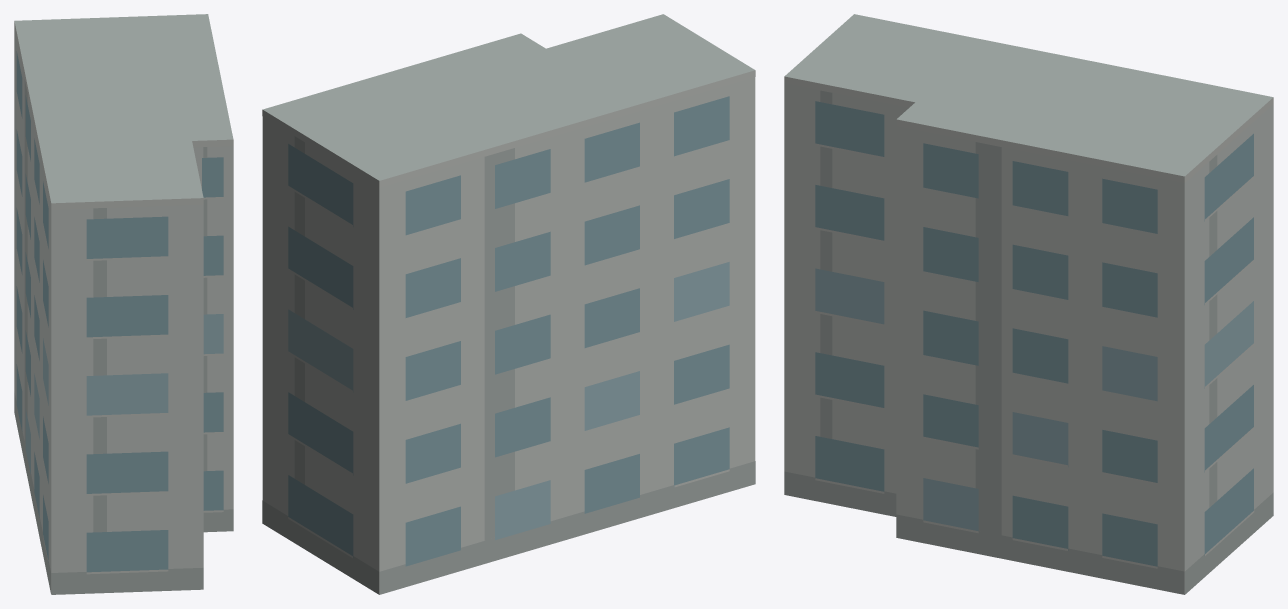
File: survey-upis-32523966.glb
3 renders of one model, left to right at view 1: azimuth 30°, elevation 25°; view 2: azimuth 150°, elevation 25°; view 3: azimuth 270°, elevation 25°, orthographic. The views are drawn at different scales.
Visible parts, largest first — view 1: survey-upis-32523966.tmp; view 2: survey-upis-32523966.tmp; view 3: survey-upis-32523966.tmp.
Part boxes in pixels (bbox=[...]): survey-upis-32523966.tmp: bbox=[14, 14, 233, 594]; survey-upis-32523966.tmp: bbox=[262, 14, 755, 594]; survey-upis-32523966.tmp: bbox=[784, 14, 1273, 594].
Size of the model in its own units: 12.25 by 14.7 by 15.59.
